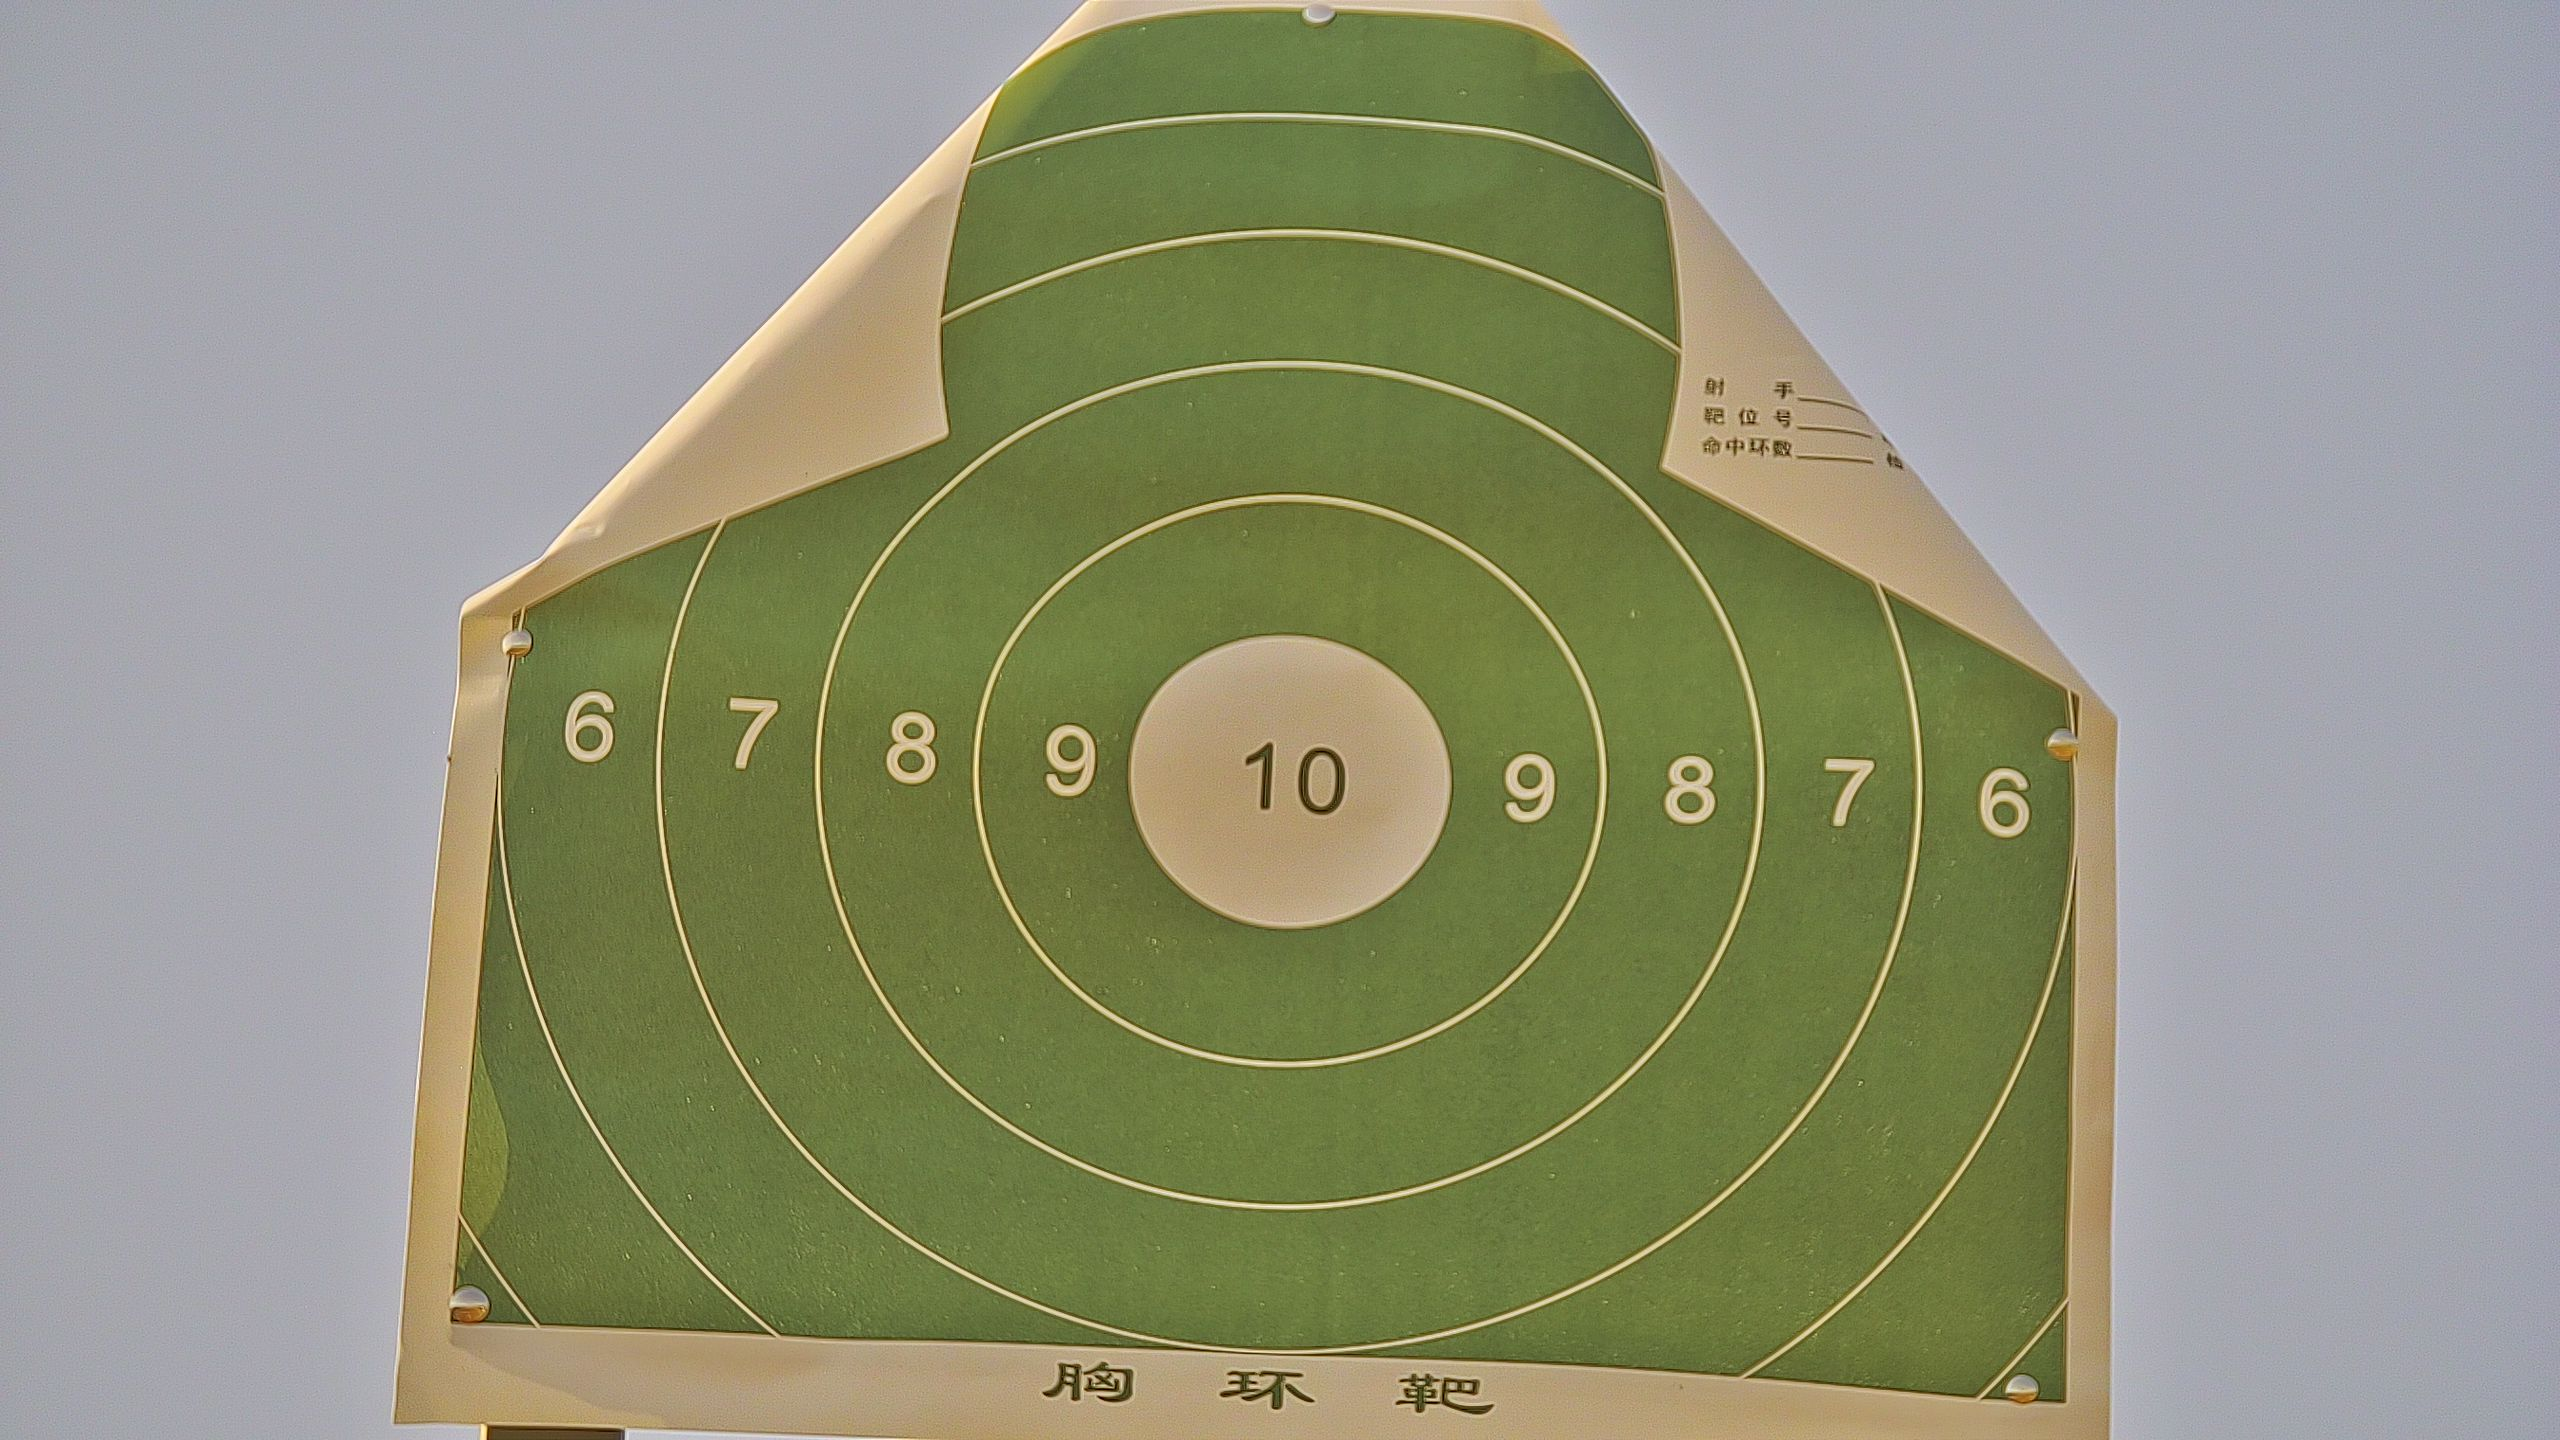kernel: (1285, 774, 1289, 777)
target: (452, 7, 2089, 1410)
ten: (1122, 628, 1456, 932)
